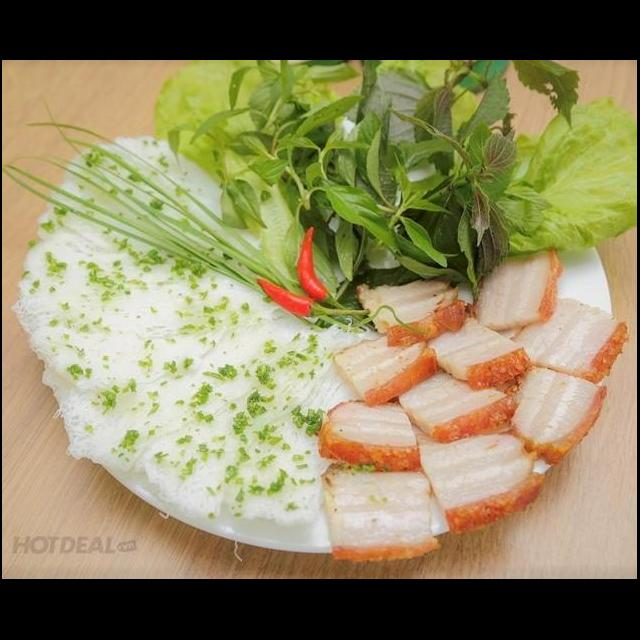banh hoi: (133, 320, 384, 530), (28, 306, 328, 467), (31, 130, 268, 282), (9, 236, 308, 350)
banh hoi heo quay: (19, 104, 637, 580)
thit heo quay: (411, 418, 552, 538), (478, 349, 612, 474), (478, 290, 632, 392), (316, 452, 448, 566), (443, 238, 568, 338), (348, 268, 476, 354), (416, 308, 536, 396), (397, 366, 522, 446), (330, 326, 444, 412), (312, 396, 428, 480)
